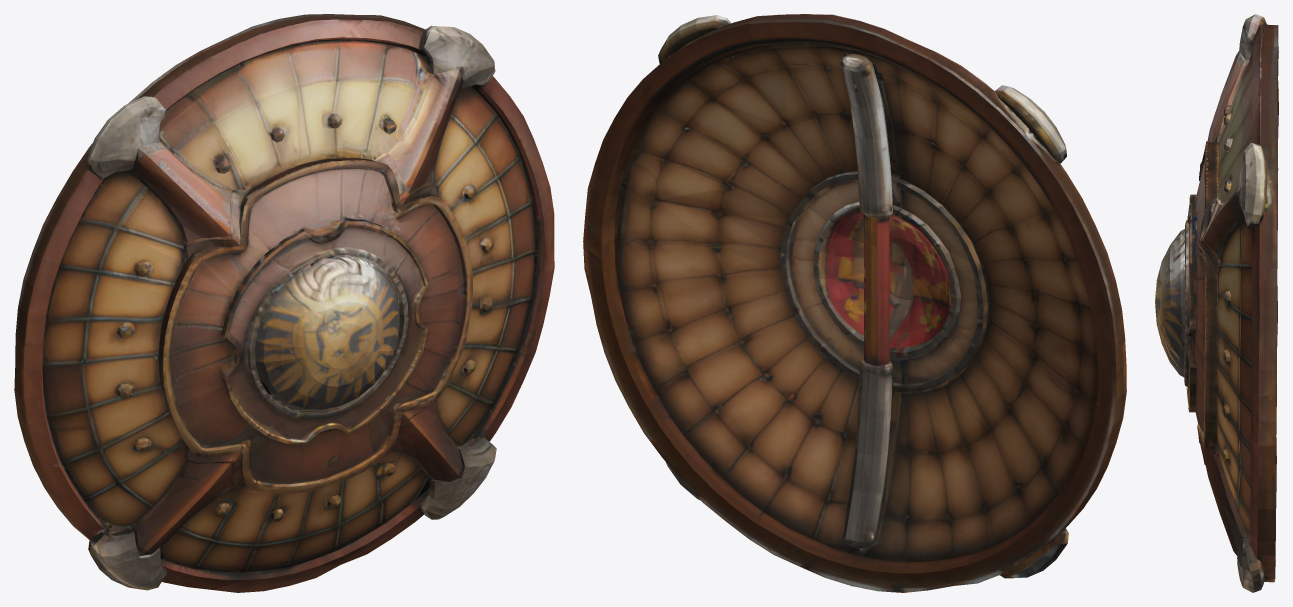
File: mvpaint.glb
The picture shows the model from 3 angles, left to right: view 1: azimuth 30°, elevation 25°; view 2: azimuth 150°, elevation 25°; view 3: azimuth 270°, elevation 25°; orthographic projection. The views are drawn at different scales.
Parts seen in each view (by area): view 1: textured; view 2: textured; view 3: textured.
Boxes of the visible parts, x1,y1,x2,y2 form: textured: (14, 14, 554, 592); textured: (583, 14, 1126, 592); textured: (1155, 14, 1278, 592).
Size of the model in its own units: 4.65 by 4.66 by 1.04.
1 material, 1 textured.
